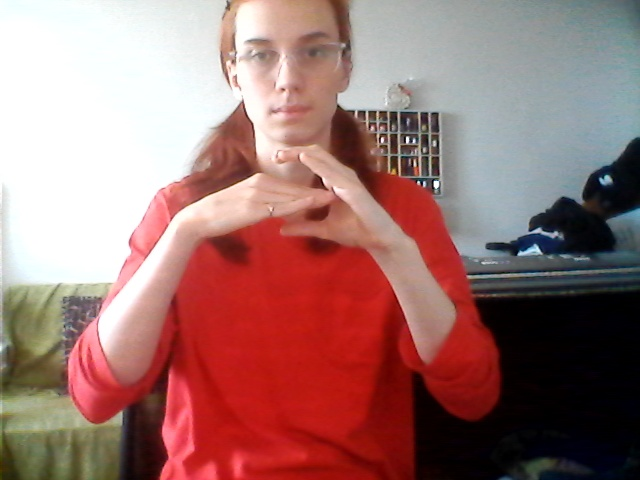e: (193, 141, 398, 263)
